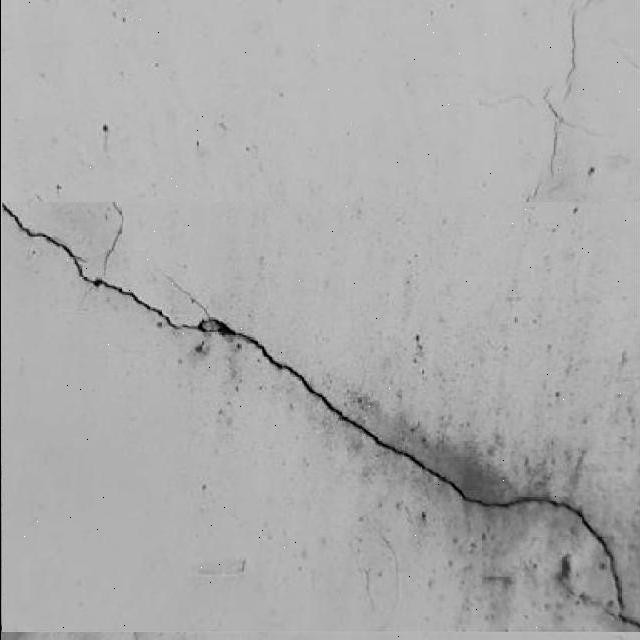crack: (1, 195, 639, 629), (26, 220, 206, 336)
